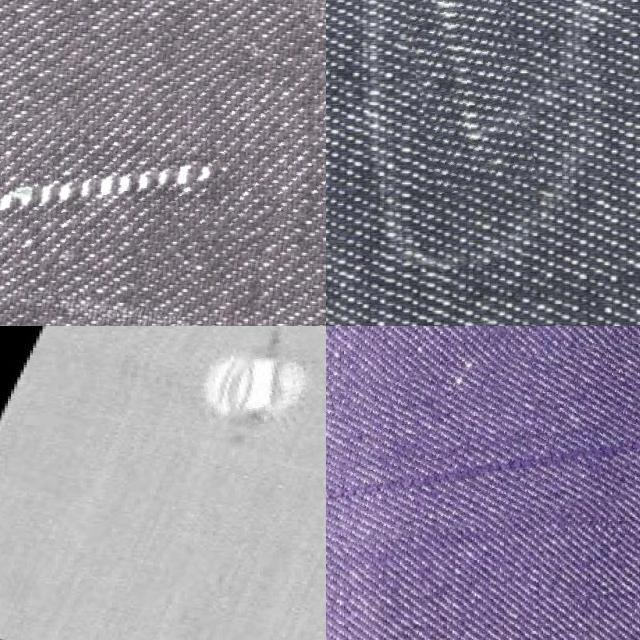other: (175, 326, 326, 437)
stains: (326, 327, 640, 537), (0, 81, 326, 261), (400, 0, 526, 189)
